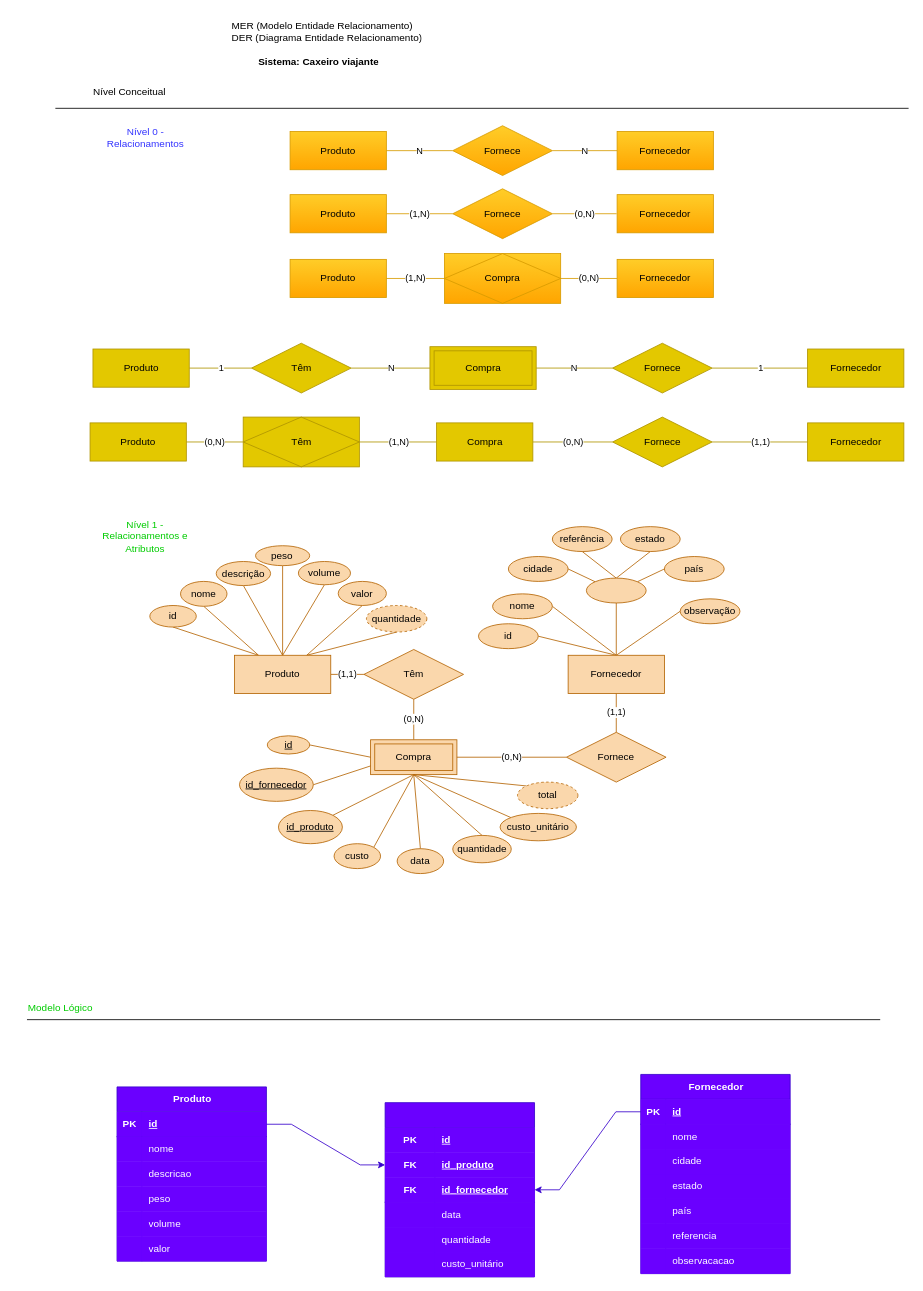
Image size: 923x1291. Some labels were removed from this diagram. The shapes that lost their labels are listed below. From the top down, each one's box as (x1, y1, x2, y2) in pixels, then its label:
(586, 577, 646, 603): endereço
(384, 1102, 535, 1277): Table
